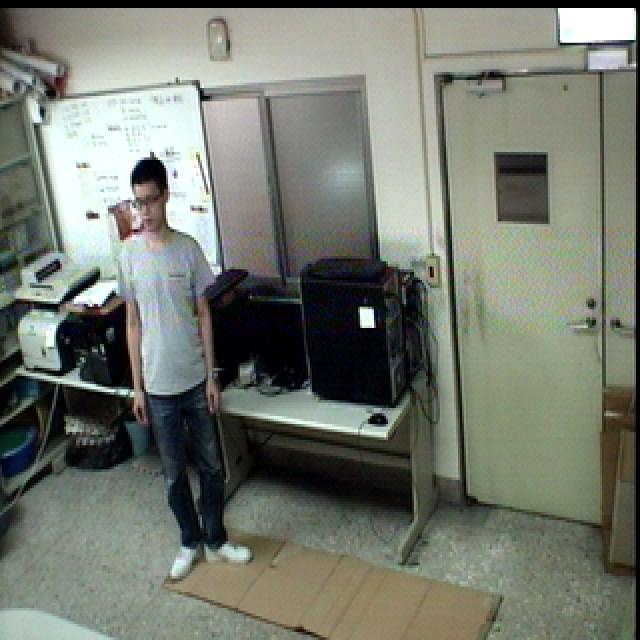stand: (106, 147, 257, 587)
